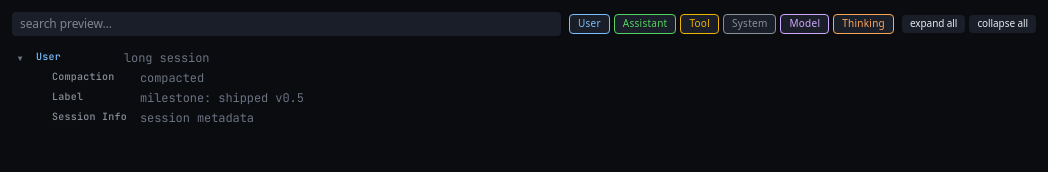
Scenario: SessionTreeExplorer › bucketizes meta types (compaction, label, session_info) under 'System'
The width and height of the screenshot is (1048, 172).
Toggle System chip off — all three meta entries vanish together.
Step 1. Click the button "System" → (750, 24), box [723,14,776,34]
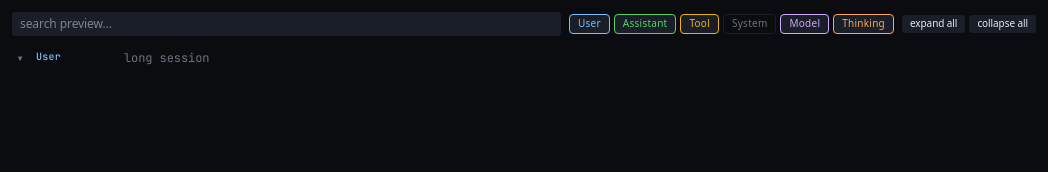
Now the text "compacted" is gone
Now the text "milestone: shipped v0.5" is gone
Now the text "session metadata" is gone
